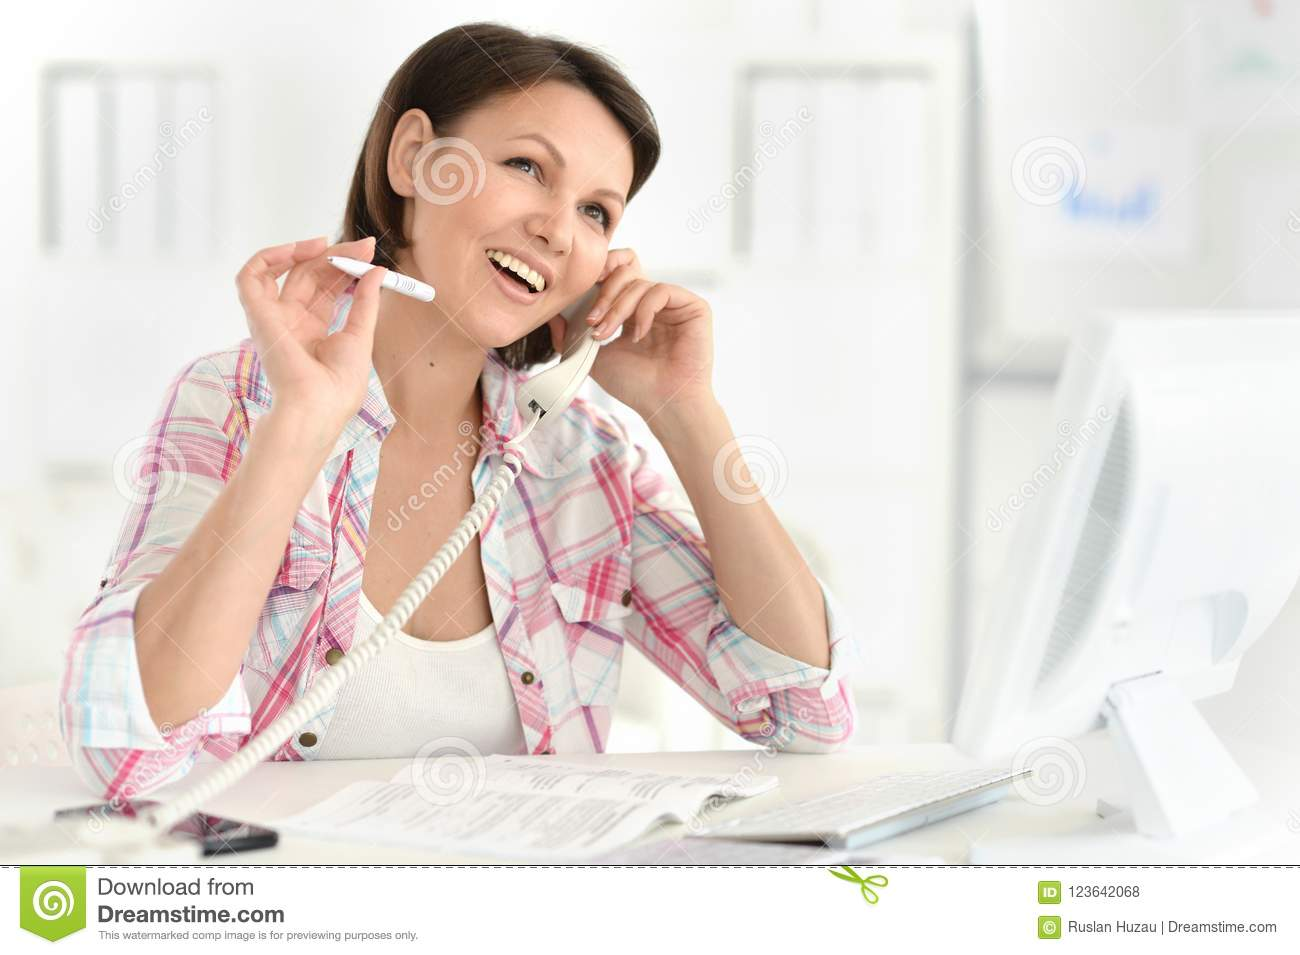talk: (460, 127, 715, 421)
